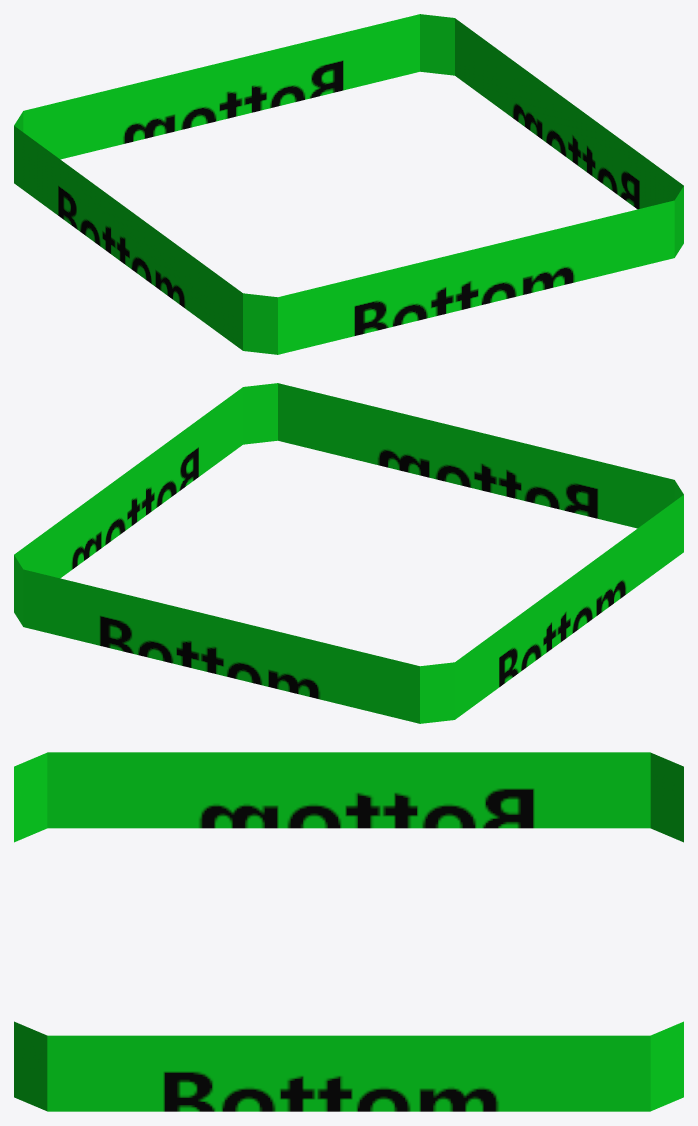
Rendered from ENV_2x2_Base_BuildingF.fbx.
The picture shows the model from 3 angles, top to bottom: view 1: azimuth 30°, elevation 25°; view 2: azimuth 150°, elevation 25°; view 3: azimuth 270°, elevation 25°; orthographic projection. The views are drawn at different scales.
Visible parts, largest first — view 1: ENV_2x2BuildingBase_F; view 2: ENV_2x2BuildingBase_F; view 3: ENV_2x2BuildingBase_F.
Part boxes in pixels (x1=…): ENV_2x2BuildingBase_F: x1=14, y1=14, x2=683, y2=354; ENV_2x2BuildingBase_F: x1=14, y1=383, x2=683, y2=723; ENV_2x2BuildingBase_F: x1=14, y1=752, x2=683, y2=1111.
Size of the model in its own units: 24 by 3 by 24.
